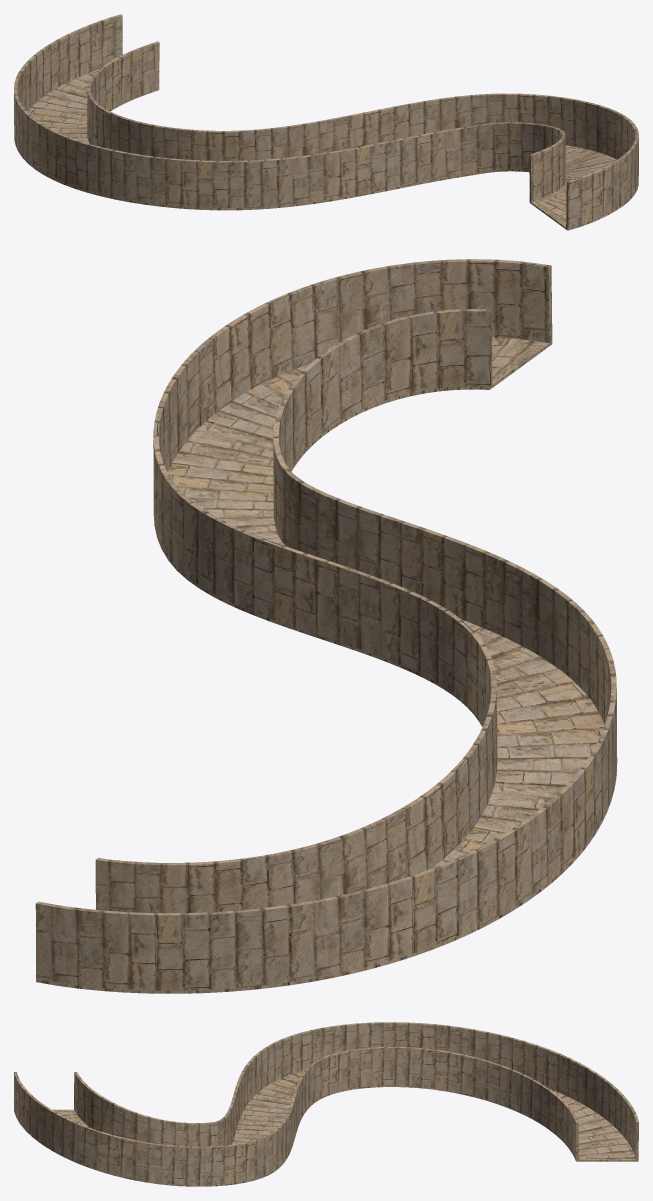
File: Trap_GreatBall.fbx
3 renders of one model, top to bottom at view 1: azimuth 30°, elevation 25°; view 2: azimuth 150°, elevation 25°; view 3: azimuth 270°, elevation 25°, orthographic. The views are drawn at different scales.
Parts seen in each view (by area): view 1: leftWall:Trap_GreatBall_RightWall_Test, RightWall:Trap_GreatBall_LeftWall_Test, Trap_GreatBall_Road; view 2: leftWall:Trap_GreatBall_RightWall_Test, RightWall:Trap_GreatBall_LeftWall_Test, Trap_GreatBall_Road; view 3: RightWall:Trap_GreatBall_LeftWall_Test, leftWall:Trap_GreatBall_RightWall_Test, Trap_GreatBall_Road.
Boxes of the visible parts, x1,y1,x2,y2 form: leftWall:Trap_GreatBall_RightWall_Test: (14,14,565,208); RightWall:Trap_GreatBall_LeftWall_Test: (87,41,638,228); Trap_GreatBall_Road: (14,69,638,230); leftWall:Trap_GreatBall_RightWall_Test: (35,309,617,990); RightWall:Trap_GreatBall_LeftWall_Test: (95,259,552,913); Trap_GreatBall_Road: (36,337,616,993); RightWall:Trap_GreatBall_LeftWall_Test: (14,1047,578,1185); leftWall:Trap_GreatBall_RightWall_Test: (74,1022,638,1159); Trap_GreatBall_Road: (14,1070,638,1186).
Bounding box in the file's own units: 5767 × 1969 × 9583.
